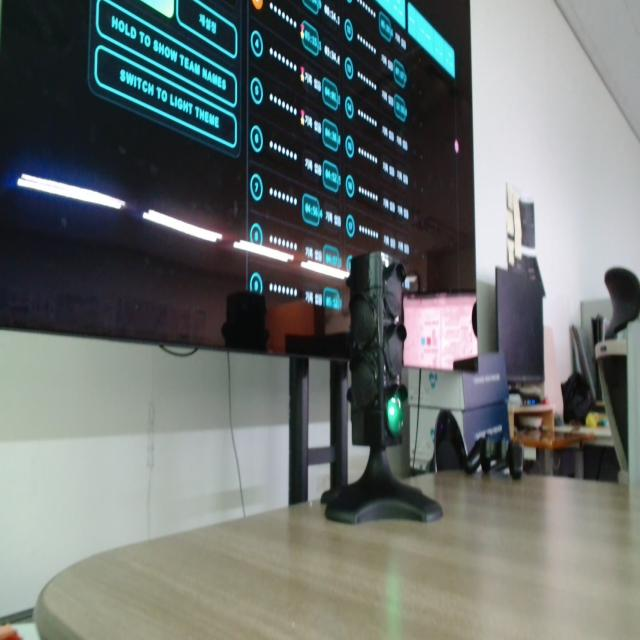green_light: (386, 394, 404, 436)
